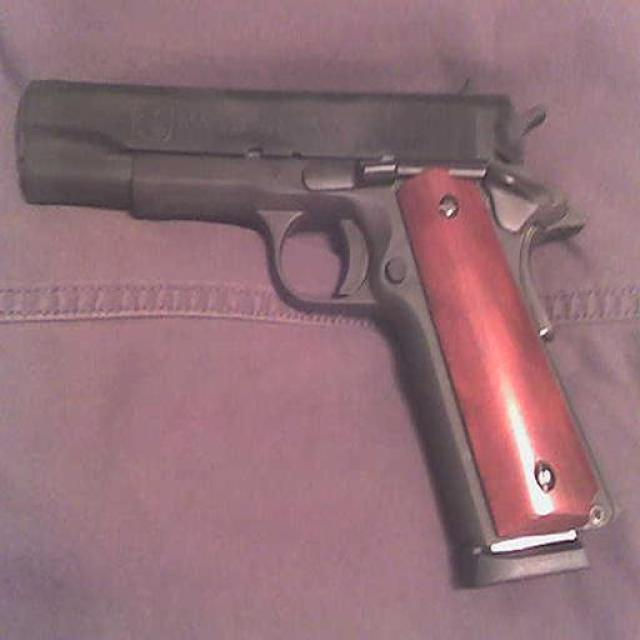pistol: (13, 72, 611, 581)
